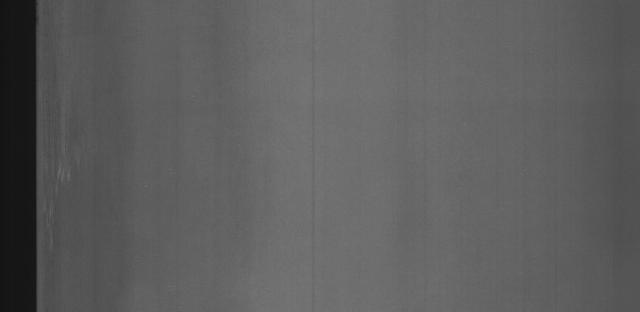silk_spot: (43, 113, 88, 249)
